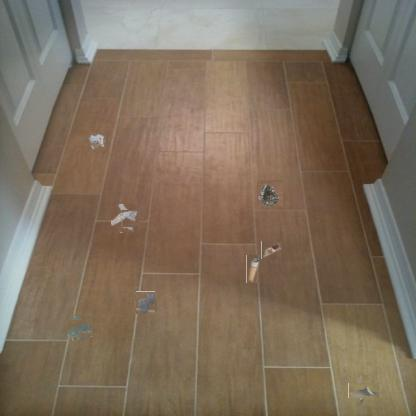dirty: (258, 180, 284, 206), (352, 379, 375, 402), (114, 207, 137, 230), (246, 255, 261, 283), (261, 241, 282, 259), (87, 133, 105, 151)
liquid: (70, 317, 92, 339), (135, 292, 156, 313)
